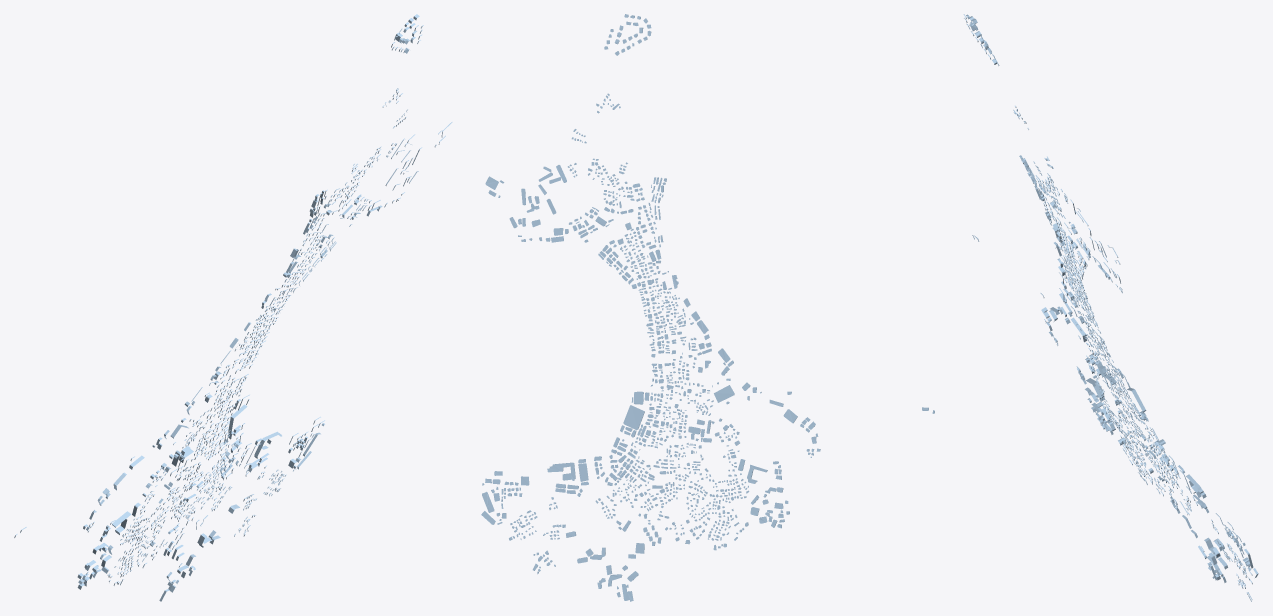
The picture shows the model from 3 angles, left to right: view 1: azimuth 30°, elevation 25°; view 2: azimuth 150°, elevation 25°; view 3: azimuth 270°, elevation 25°; orthographic projection. The views are drawn at different scales.
Parts seen in each view (by area): view 1: geometry_0; view 2: geometry_0; view 3: geometry_0.
Part boxes in pixels (bbox=[...]): geometry_0: bbox=[14, 14, 452, 601]; geometry_0: bbox=[481, 14, 934, 601]; geometry_0: bbox=[963, 14, 1258, 601].
Bounding box in the file's own units: 1465 × 1764 × 760.
